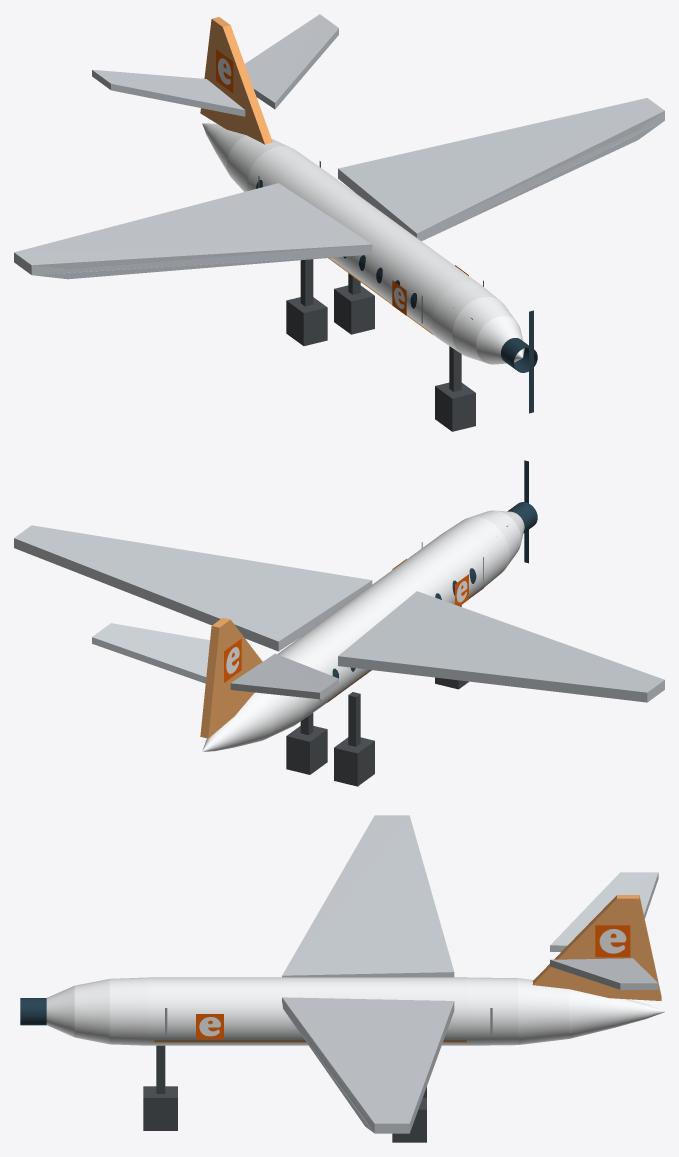
File: pc12-EZY-v3.gltf
3 renders of one model, top to bottom at view 1: azimuth 30°, elevation 25°; view 2: azimuth 150°, elevation 25°; view 3: azimuth 270°, elevation 25°, orthographic.
Visible parts, largest first — view 1: object 1, Gear; view 2: object 1, Gear; view 3: object 1, Gear.
Part boxes in pixels (x1,y1,x2,y2): object 1: (14,14,664,413); Gear: (286,259,475,431); object 1: (14,460,664,751); Gear: (286,605,468,786); object 1: (20,815,664,1133); Gear: (143,1045,426,1142).
Bounding box in the file's own units: 16 × 5.53 × 14.28.
Materials: 8 (1 with a texture image).
